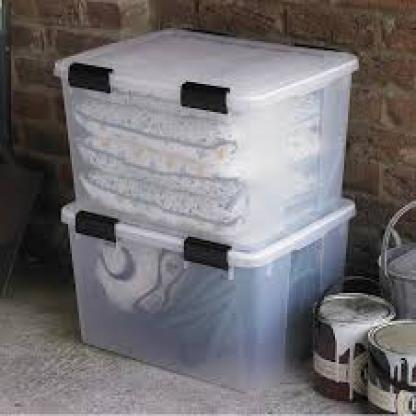plastic_box: (40, 9, 361, 252), (46, 189, 370, 400)
